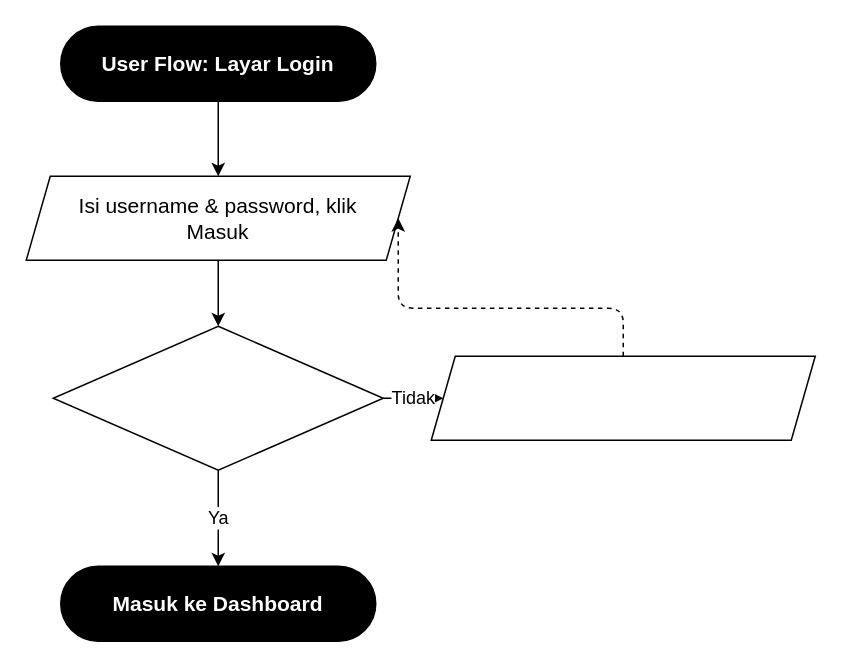
Image size: 842x668. Some labels were removed from this diagram. The box of each missing label's shape, as (x1, y1, x2, y2) in pixels:
Data benar & akun aktif?: (52, 325, 383, 470)
Tampil pesan error: (430, 355, 815, 440)
